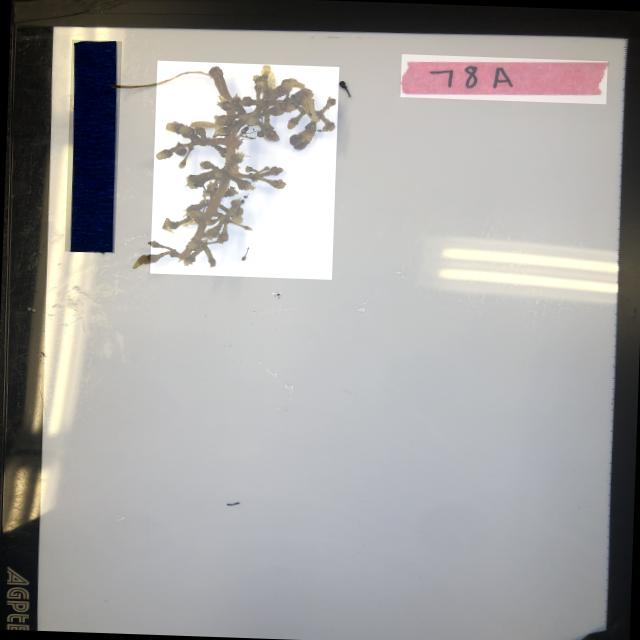index: (400, 54, 607, 104)
measure_label: (65, 39, 122, 253)
rachis_cluster: (150, 61, 338, 280)
